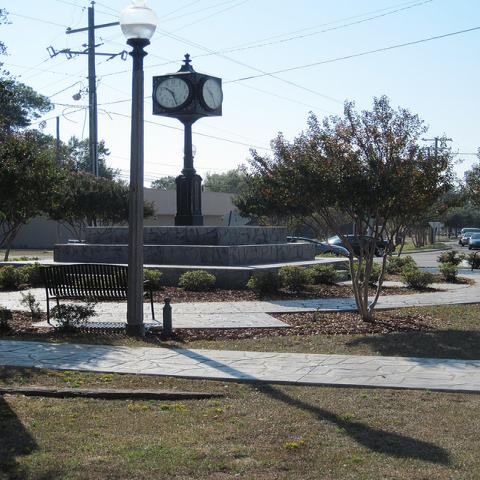car: (317, 234, 397, 258), (461, 232, 474, 246), (469, 233, 479, 251), (458, 227, 480, 235)
